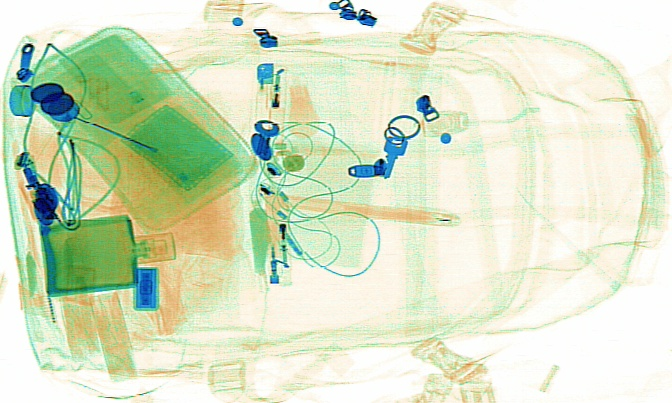lighter: (251, 60, 286, 149), (262, 188, 293, 285)
